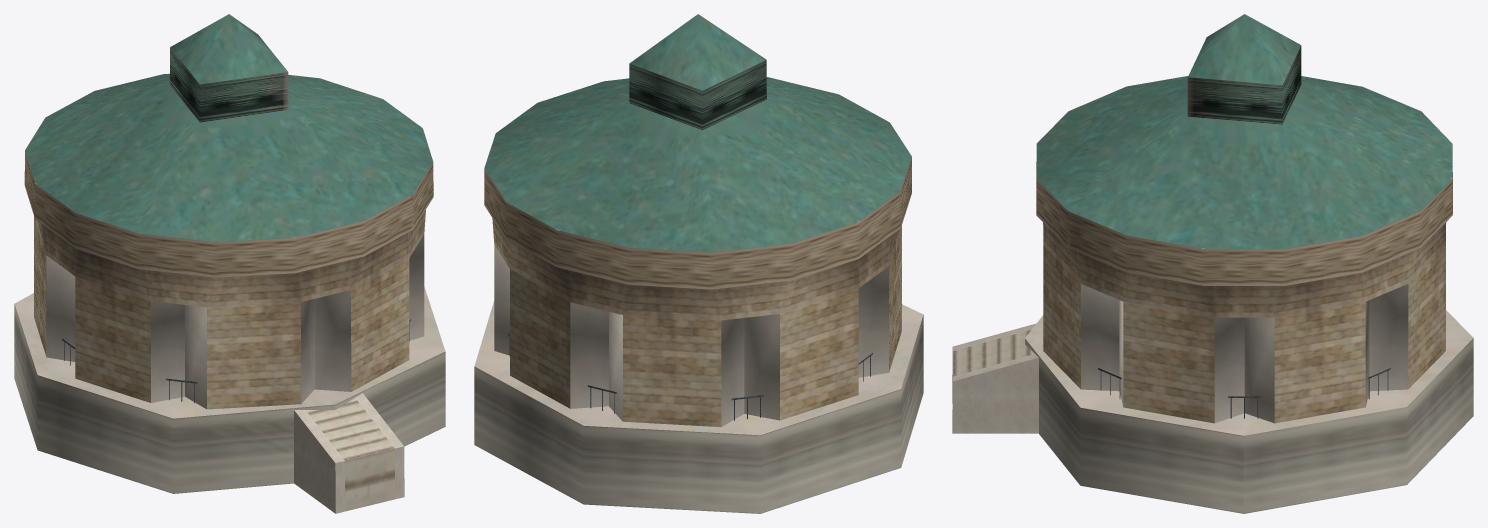
The model's file is thm_nboo_thed_imprv_building_s09_l3.fbx.
3 renders of one model, left to right at view 1: azimuth 30°, elevation 25°; view 2: azimuth 150°, elevation 25°; view 3: azimuth 270°, elevation 25°, orthographic. The views are drawn at different scales.
Visible parts, largest first — view 1: mesh_node; view 2: mesh_node; view 3: mesh_node.
Part boxes in pixels (x1=…): mesh_node: x1=14, y1=14, x2=445, y2=513; mesh_node: x1=474, y1=14, x2=923, y2=513; mesh_node: x1=952, y1=14, x2=1473, y2=513.
Bounding box in the file's own units: 17.23 × 16.57 × 19.46.
Materials: 1 (1 with a texture image).
